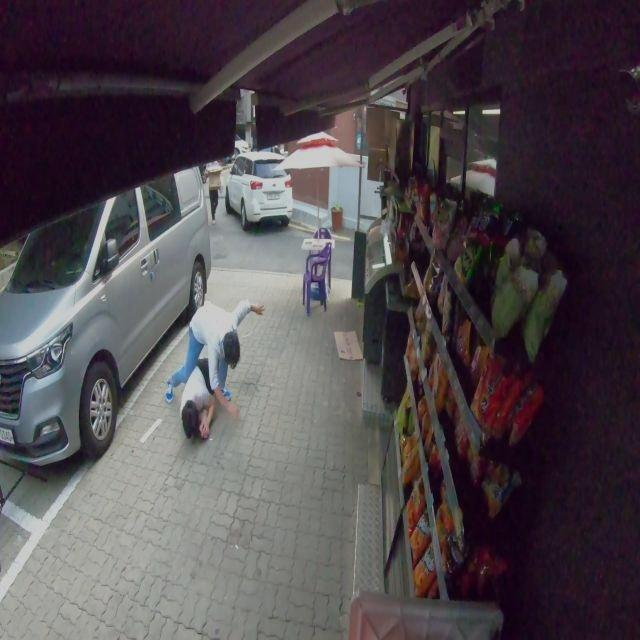fight: (164, 306, 243, 444)
